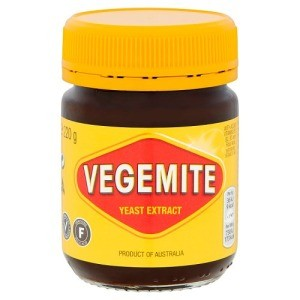yeast spread_brain food: (75, 96, 228, 244)
